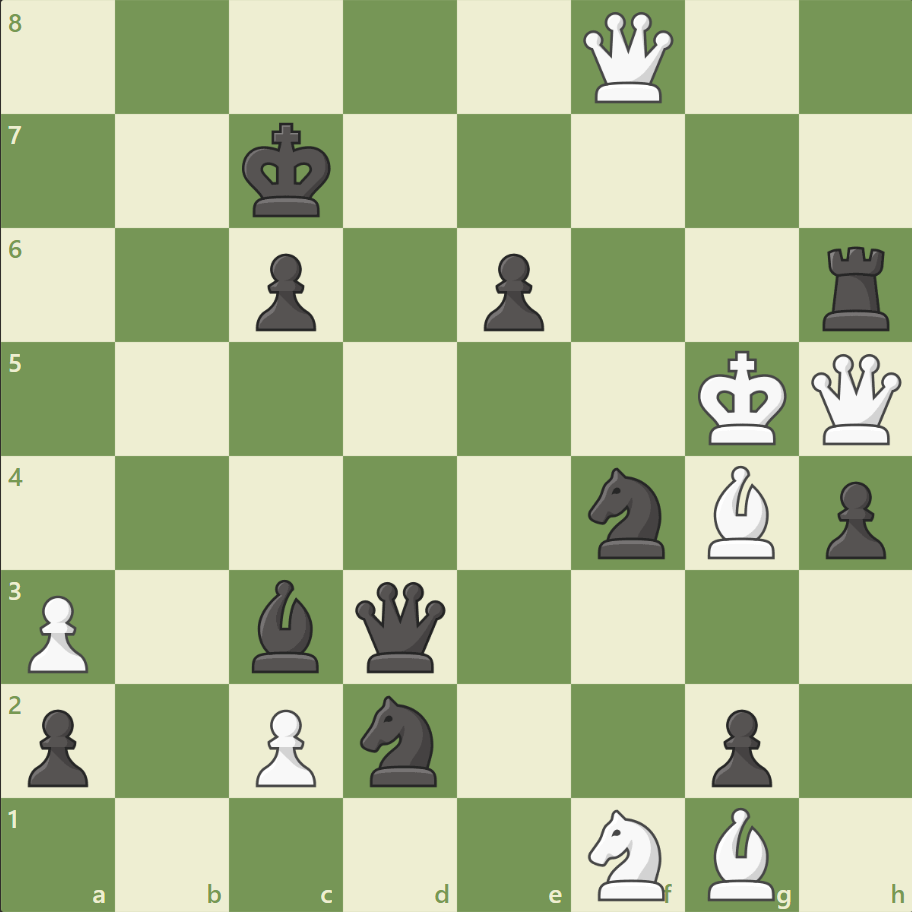B: (698, 460, 782, 563), (698, 801, 782, 904)
K: (692, 344, 792, 452)
N: (579, 802, 676, 904)
P: (20, 586, 95, 677), (247, 700, 322, 791)
Q: (805, 349, 904, 449), (578, 9, 677, 108)
b: (244, 574, 328, 676)
k: (238, 117, 338, 225)
n: (351, 688, 449, 791), (579, 461, 676, 564)
p: (247, 246, 322, 337), (474, 246, 549, 337), (20, 700, 95, 791), (701, 700, 776, 791), (815, 473, 889, 564)
q: (351, 576, 450, 676)
r: (814, 239, 897, 336)
